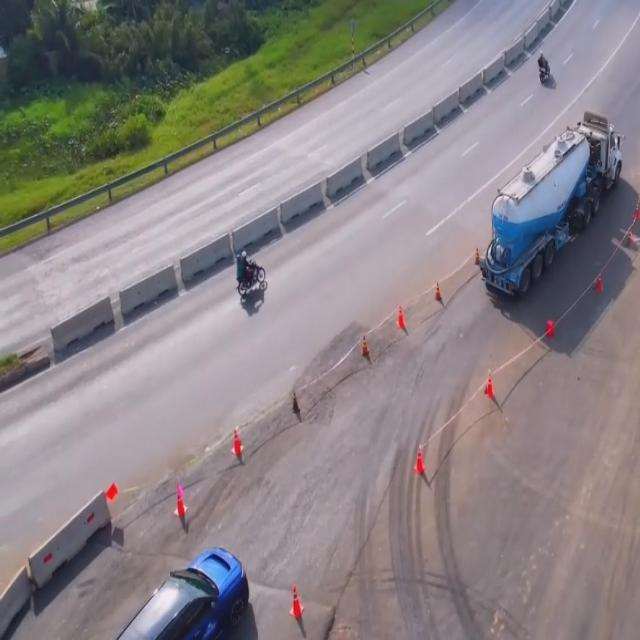car: (111, 544, 267, 638)
motorbike: (235, 250, 267, 298), (536, 51, 551, 85)
truck: (478, 108, 622, 301)
